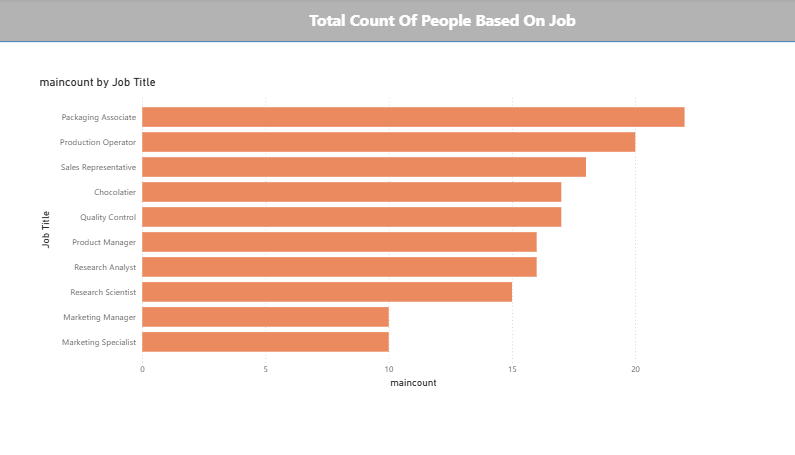

The page's visual inventory and layout, read from the dashboard file:
{"tool":"powerbi","page":{"name":"Page 1","canvas":[1280,720],"ordinal":0},"visuals":[{"type":"clusteredBarChart","fields":{"Y":["employes.maincount"],"Category":["employes.Job Title"]},"box":[55.4,110.8,945.9,455.4],"z":0},{"type":"shape","box":[0,0,1279.7,63.5],"z":1000}]}

Visuals, with their boxes in screenshot pixels (x1, y1, x2, y2), scaled from the page's 1280x720 canvas onto the 795x455 screenshot:
clusteredBarChart - employes.maincount x employes.Job Title: 34,70,622,358
shape: 0,0,794,40
